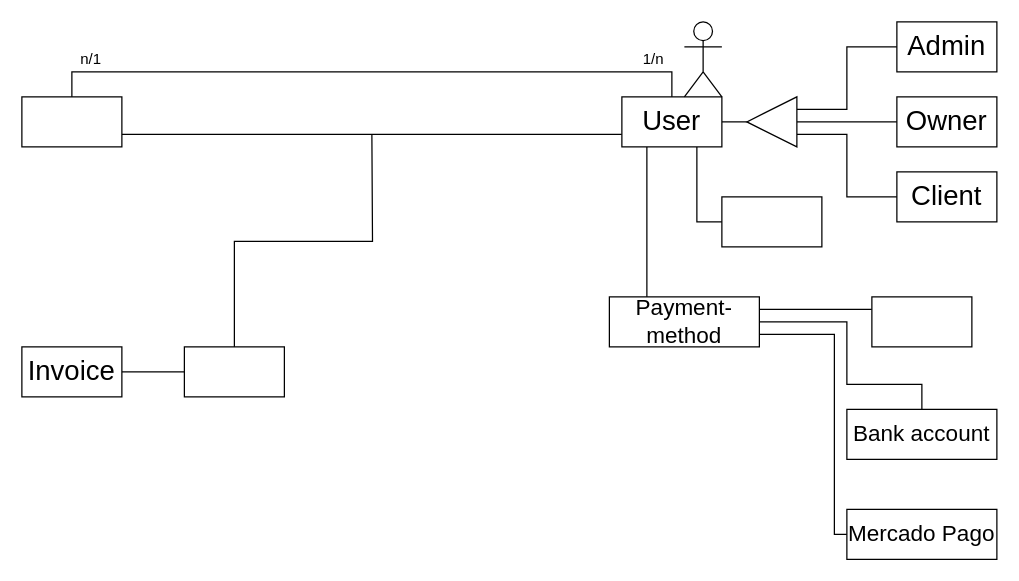
This 1019x581 diagram has some shape labels left out. Here are the shapes that lost their labels. From the top down, the centre of each, then its label:
At (x=71, y=121): "Park".
At (x=771, y=221): "Car".
At (x=921, y=321): "Card".
At (x=233, y=371): "Rent".
